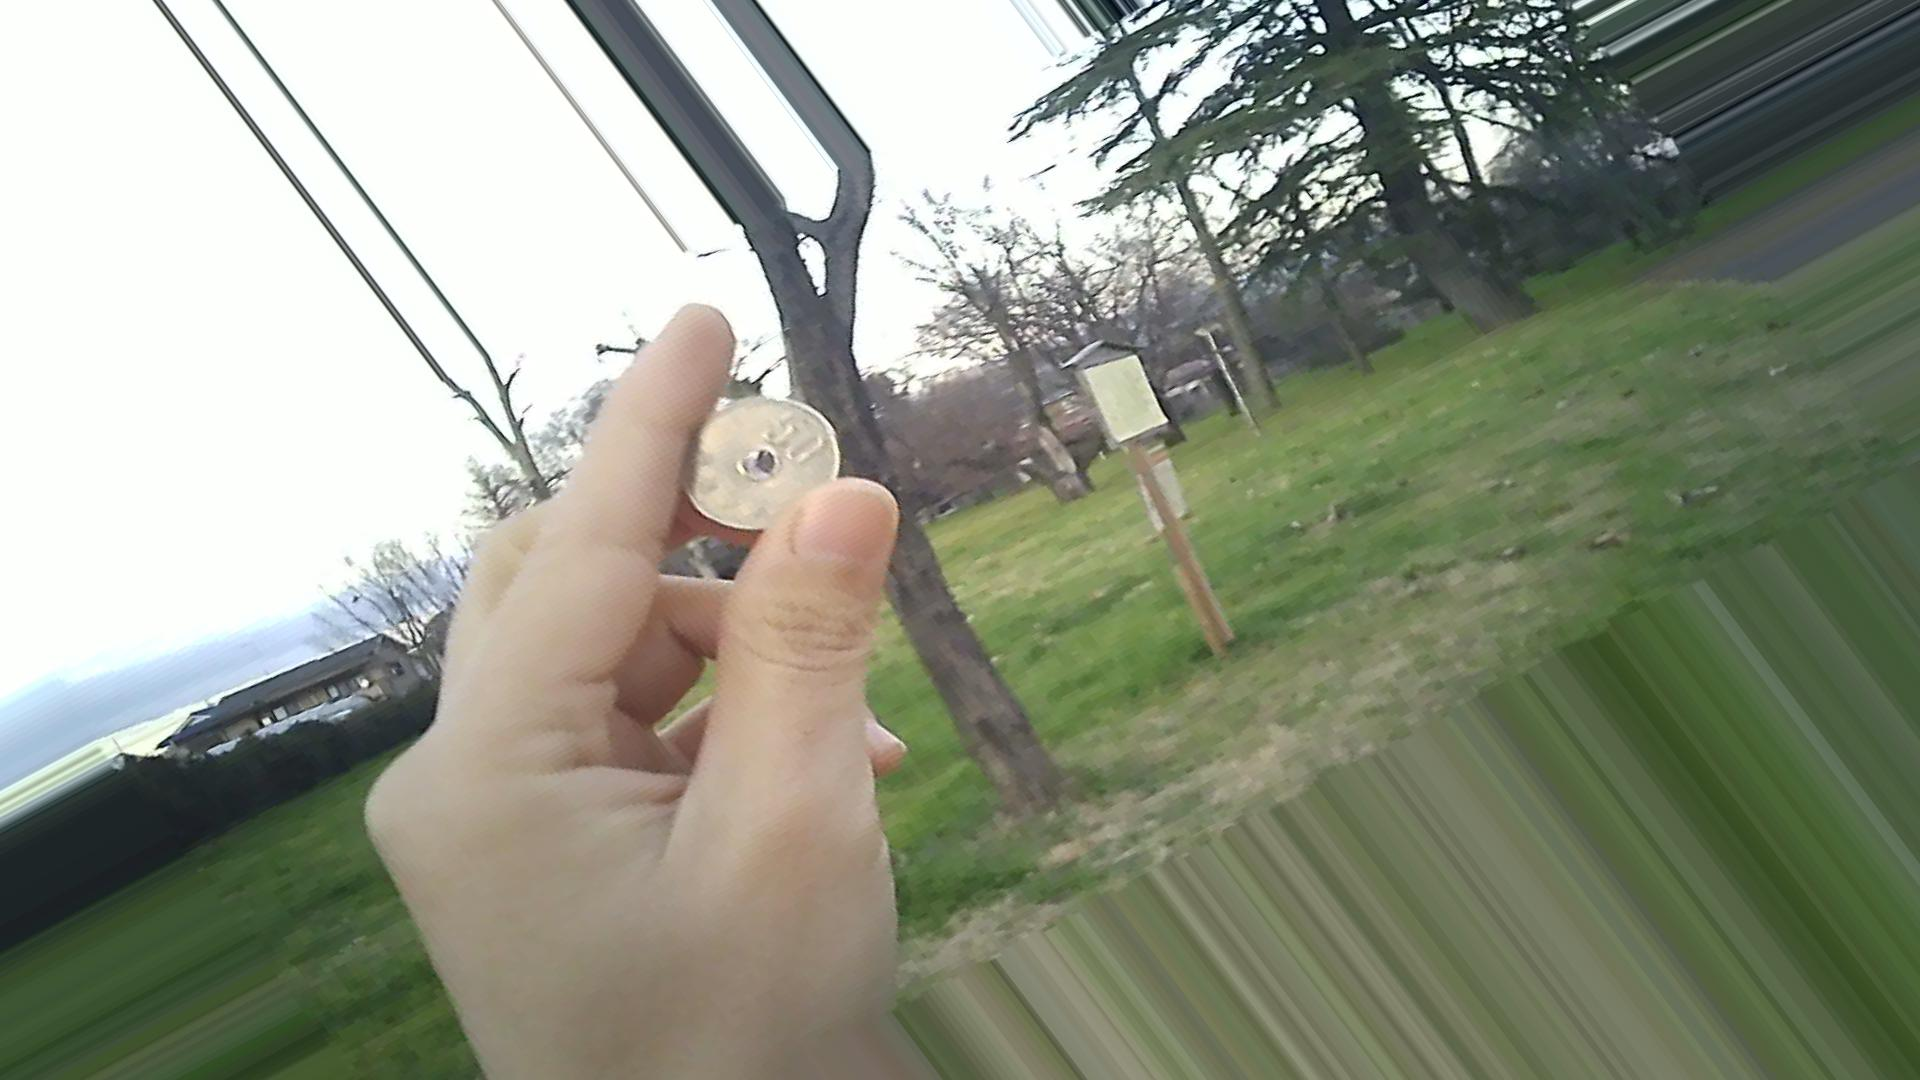50 Yen: (678, 393, 836, 530)
